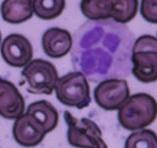N: (69, 19, 135, 81)
